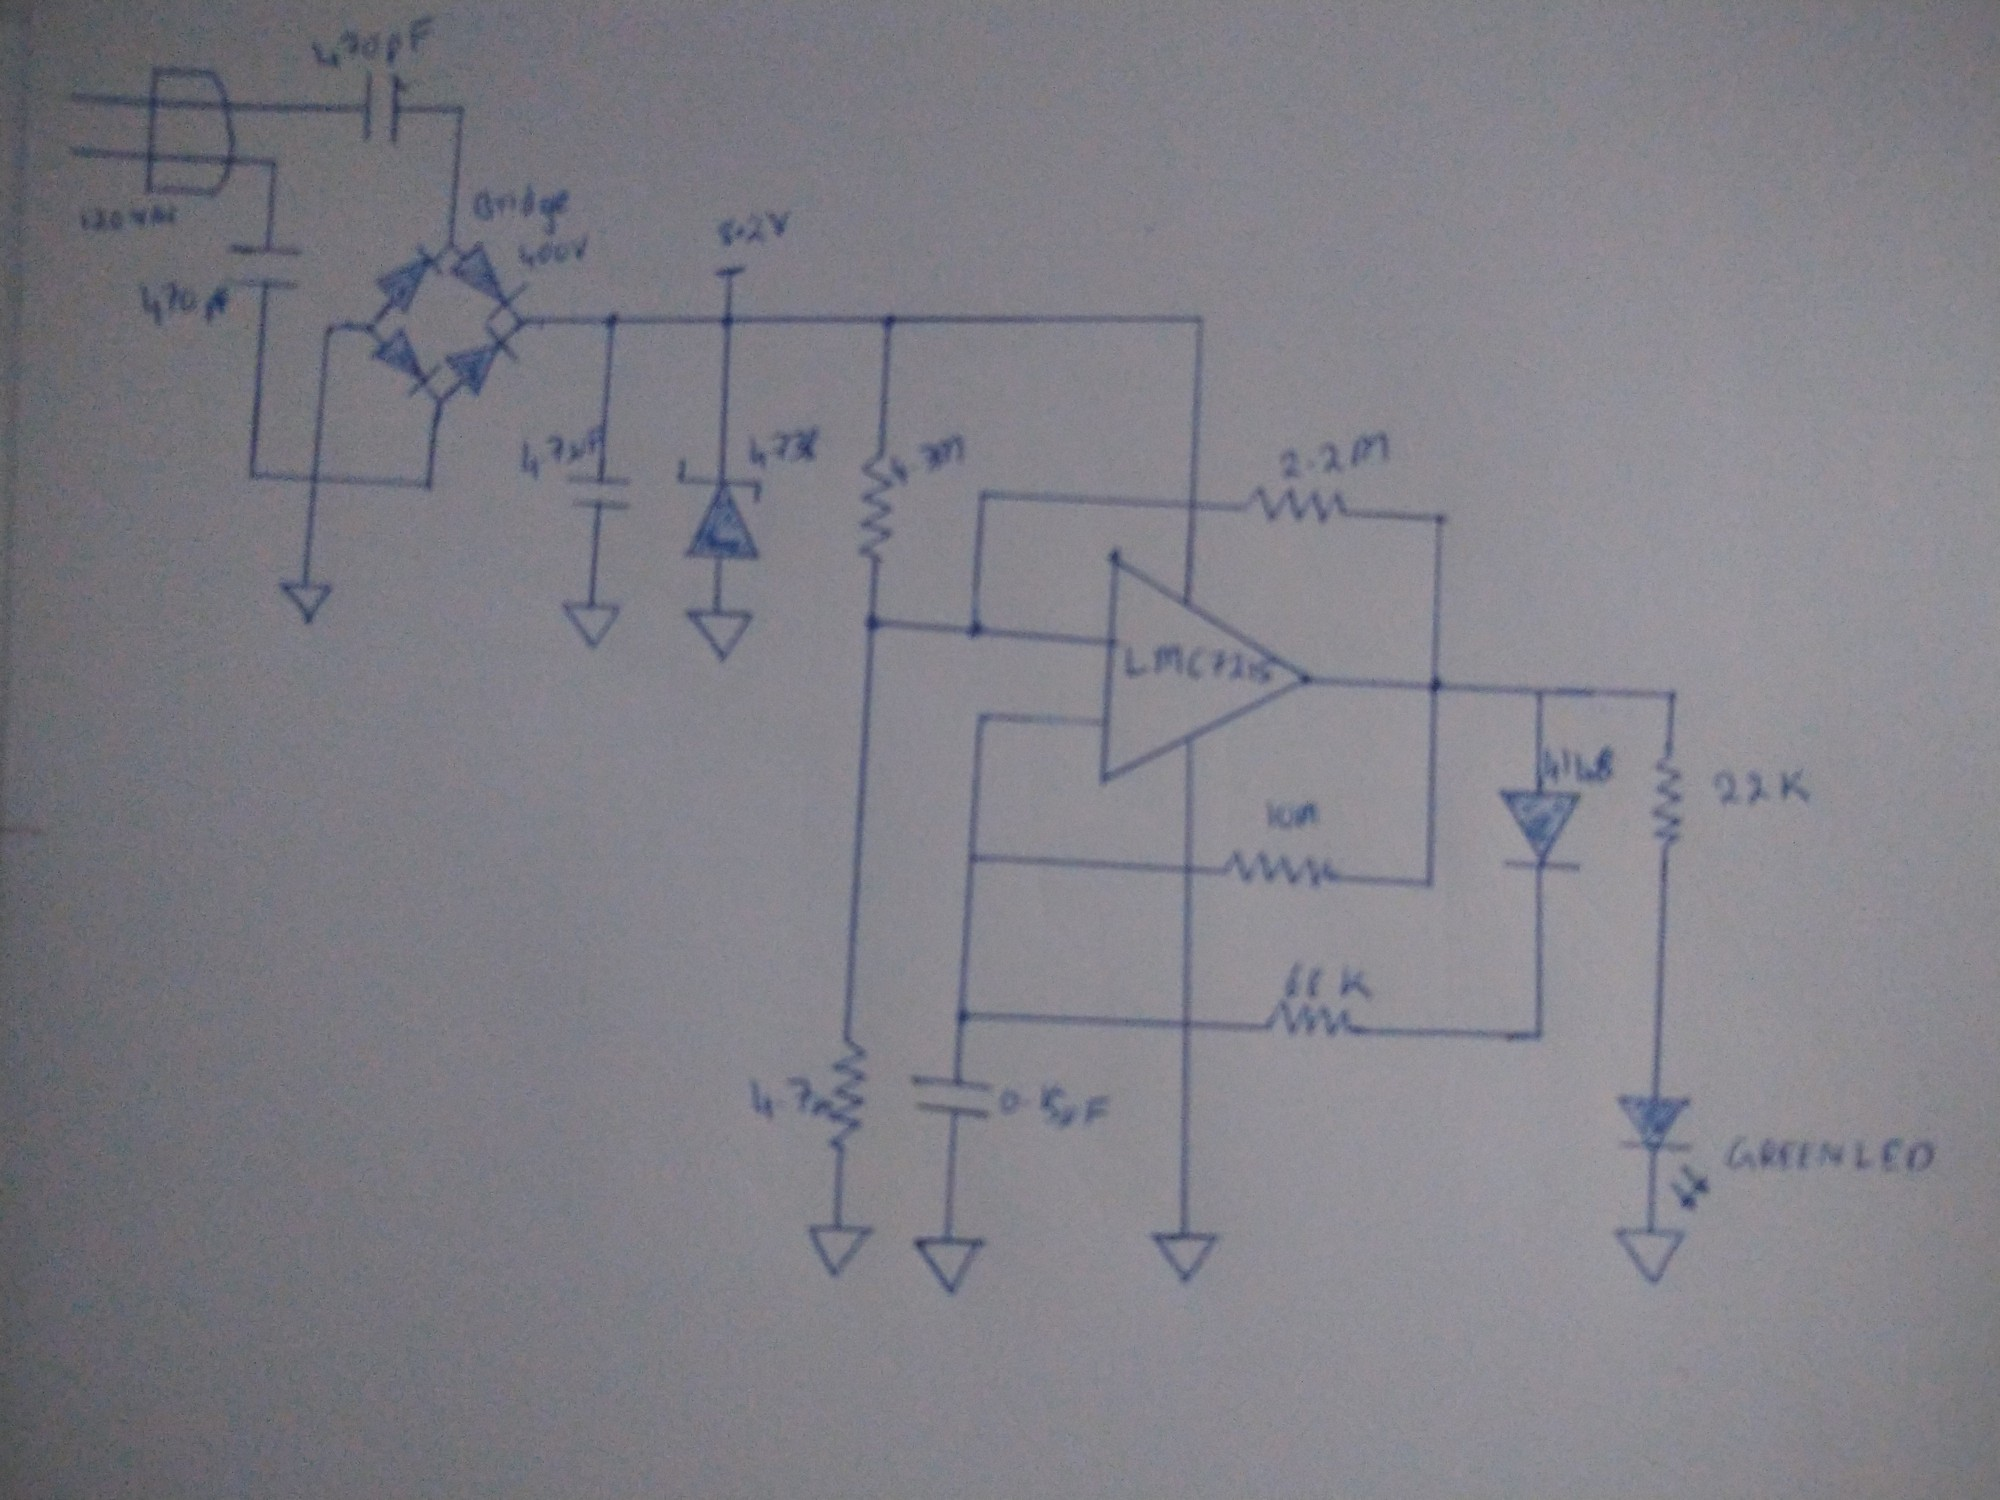capacitor.unpolarized: (904, 1071, 995, 1125), (225, 241, 307, 295), (357, 69, 405, 150), (561, 471, 638, 517)
crossover: (1176, 860, 1202, 882), (1173, 1015, 1202, 1034), (306, 470, 328, 493), (1181, 496, 1205, 514)
diode: (672, 457, 769, 562), (1494, 786, 1584, 878), (450, 241, 529, 320), (370, 243, 446, 317), (444, 325, 521, 395), (365, 326, 439, 399)
diode.light_emitting: (1609, 1090, 1713, 1215)
gnd: (1613, 1224, 1690, 1289), (913, 1235, 991, 1298), (802, 1221, 874, 1283), (682, 603, 756, 663), (1148, 1231, 1224, 1287), (559, 599, 624, 652), (276, 580, 334, 626)
junction: (857, 607, 890, 637), (447, 96, 476, 124), (1424, 678, 1450, 703), (1416, 871, 1443, 897), (953, 1004, 976, 1027), (1189, 310, 1214, 332), (964, 848, 986, 871), (1532, 682, 1553, 706), (428, 389, 452, 410), (243, 466, 263, 488), (718, 310, 739, 332), (317, 318, 339, 339), (973, 487, 994, 507), (972, 711, 992, 731), (419, 474, 438, 496), (1430, 511, 1449, 533), (879, 310, 898, 331), (361, 317, 378, 337), (443, 236, 460, 255), (965, 622, 984, 640), (602, 314, 620, 329), (1665, 685, 1680, 704), (265, 154, 280, 172), (513, 315, 531, 331), (1532, 1027, 1548, 1045)
operational_amplifier: (1096, 548, 1315, 786)
resistor: (1220, 845, 1339, 900), (1236, 481, 1351, 531), (824, 1034, 869, 1149), (854, 451, 896, 567), (1647, 748, 1690, 849), (1265, 1002, 1356, 1045)
socket: (135, 58, 239, 203)
terminal: (58, 84, 90, 113), (57, 136, 87, 165), (710, 262, 748, 280)
text: (1723, 1131, 1939, 1182), (309, 11, 436, 76), (1121, 641, 1279, 689), (997, 1081, 1115, 1134), (1276, 430, 1392, 481), (469, 183, 575, 236), (131, 277, 231, 331), (515, 425, 605, 484), (1710, 766, 1817, 811), (746, 1075, 831, 1130), (890, 432, 969, 490), (1277, 956, 1375, 1002), (76, 199, 183, 235), (713, 206, 794, 252), (745, 425, 822, 473), (1542, 744, 1622, 786), (517, 233, 589, 276), (1260, 799, 1324, 834)
